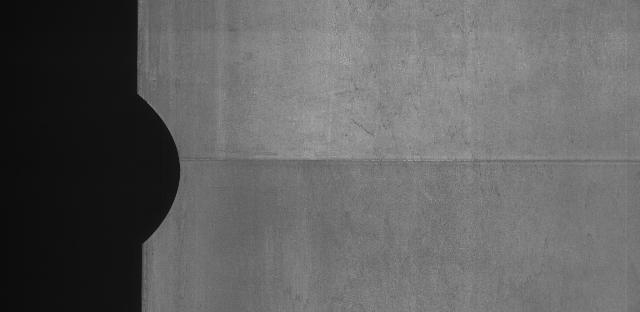welding_line: (173, 147, 640, 174)
